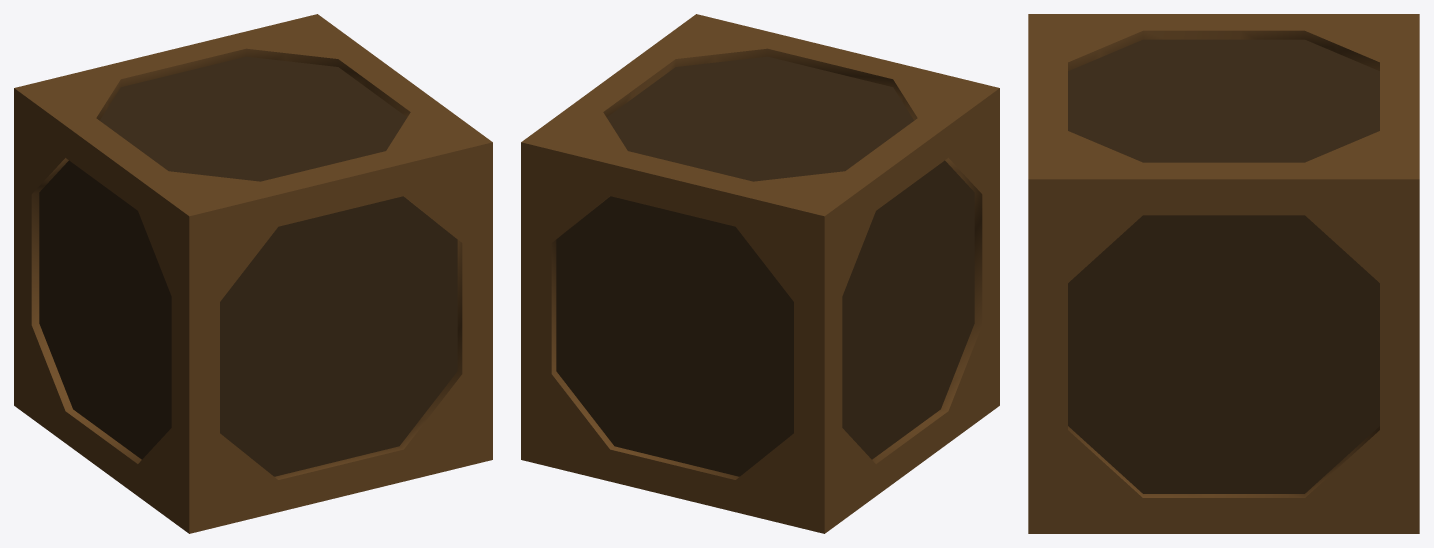
Rendered from Cube_Lab_FBX_mit_Lampe.fbx.
The picture shows the model from 3 angles, left to right: view 1: azimuth 30°, elevation 25°; view 2: azimuth 150°, elevation 25°; view 3: azimuth 270°, elevation 25°; orthographic projection. The views are drawn at different scales.
Visible parts, largest first — view 1: Boole_2, Würfel_4, Würfel_5, Würfel_6; view 2: Boole_2, Würfel_3, Würfel_5, Würfel_6; view 3: Boole_2, Würfel_7, Würfel_6.
Boxes of the visible parts, x1=… form: Boole_2: x1=14, y1=14, x2=492, y2=533; Würfel_4: x1=220, y1=196, x2=457, y2=476; Würfel_5: x1=39, y1=160, x2=171, y2=459; Würfel_6: x1=99, y1=56, x2=407, y2=181; Boole_2: x1=521, y1=14, x2=999, y2=533; Würfel_3: x1=556, y1=196, x2=793, y2=476; Würfel_5: x1=842, y1=160, x2=974, y2=459; Würfel_6: x1=606, y1=56, x2=914, y2=181; Boole_2: x1=1028, y1=14, x2=1419, y2=533; Würfel_7: x1=1068, y1=215, x2=1379, y2=493; Würfel_6: x1=1068, y1=39, x2=1379, y2=162.
Size of the model in its own units: 200 by 200 by 200.
